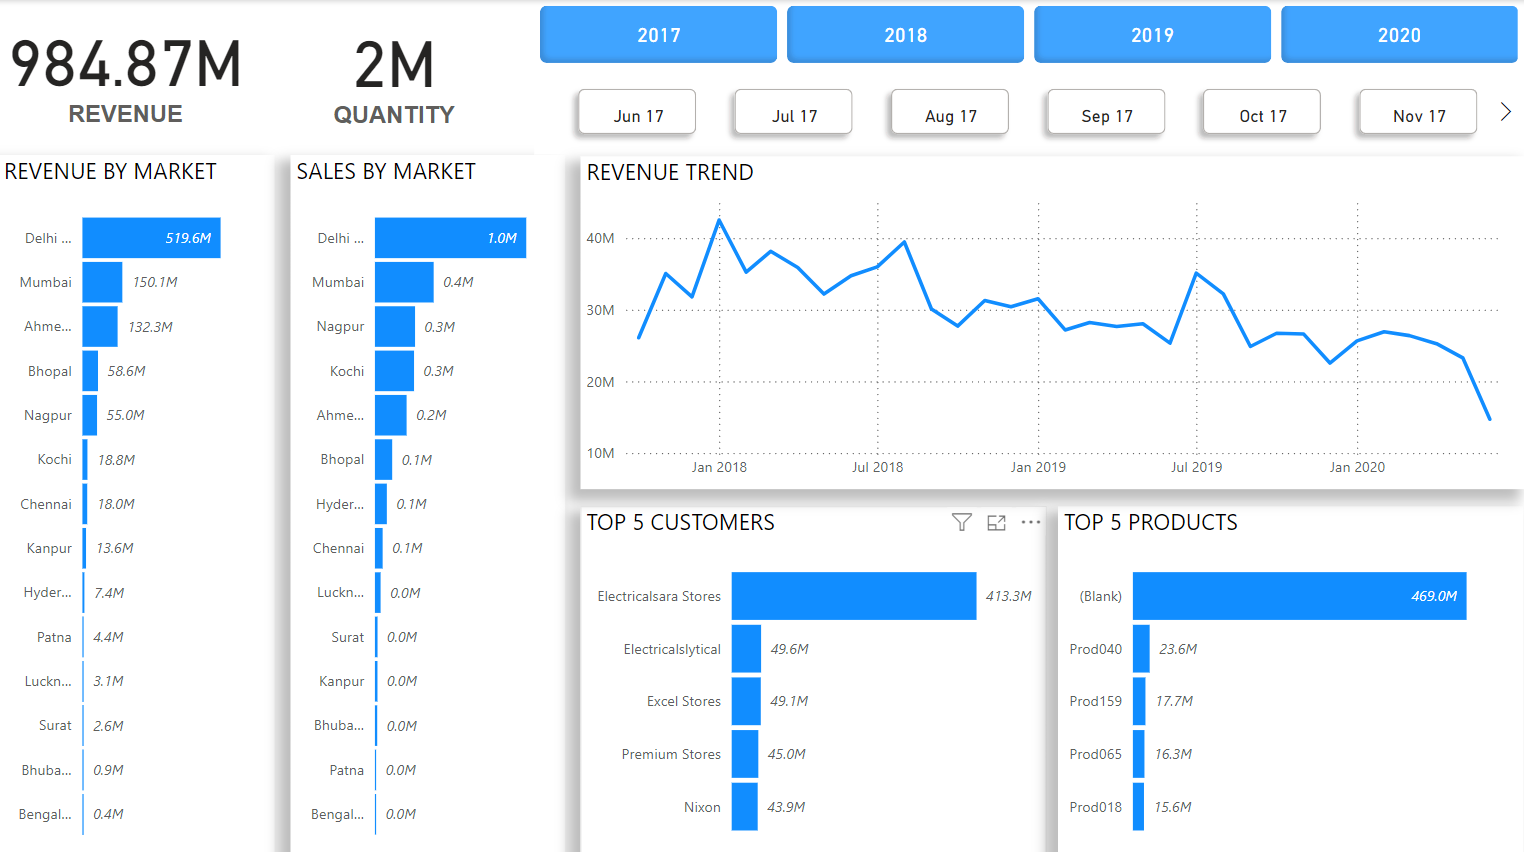

The page's visual inventory and layout, read from the dashboard file:
{"tool":"powerbi","page":{"name":"Page 1","canvas":[1280,720],"ordinal":0},"visuals":[{"type":"card","fields":{"Values":["base measure.revenue"]},"box":[0,0,214,115.1],"z":0},{"type":"card","title":"QUANTITY","fields":{"Values":["base measure.sales qty"]},"box":[225.6,1.2,214,114],"z":1000},{"type":"barChart","title":"REVENUE BY MARKET","fields":{"Y":["base measure.revenue"],"Category":["sales markets.markets_name"]},"box":[0,130,231.7,590.2],"z":2000},{"type":"barChart","title":"SALES BY MARKET","fields":{"Y":["base measure.sales qty"],"Category":["sales markets.markets_name"]},"box":[245.3,130,230.6,590.2],"z":3000},{"type":"advancedSlicerVisual","fields":{"Values":["sales date.cy_date"]},"box":[450,58.1,830.2,72.1],"z":5000},{"type":"advancedSlicerVisual","title":"YEAR","fields":{"Values":["sales date.year"]},"box":[450,0,830.2,58.1],"z":5500},{"type":"barChart","title":"TOP 5 CUSTOMERS","fields":{"Y":["base measure.revenue"],"Category":["sales customers.custmer_name"]},"box":[488.4,424.4,390.7,295.3],"z":6000},{"type":"barChart","title":"TOP 5 PRODUCTS","fields":{"Y":["base measure.revenue"],"Category":["sales products.product_code"]},"box":[889.3,424.6,390.7,295.3],"z":7000},{"type":"lineChart","title":"REVENUE TREND","fields":{"Y":["base measure.revenue"],"Category":["sales date.cy_date.Variation.Date Hierarchy.Year","sales date.cy_date.Variation.Date Hierarchy.Quarter","sales date.cy_date.Variation.Date Hierarchy.Month","sales date.cy_date.Variation.Date Hierarchy.Day"]},"box":[488.1,131.4,791.9,279.1],"z":8000}]}

Visuals, with their boxes in screenshot pixels (x1, y1, x2, y2), scaled from the page's 1280x720 canvas onto the 1524x852 screenshot:
card - base measure.revenue: (left=0, top=0, right=255, bottom=136)
"QUANTITY" card: (left=269, top=1, right=523, bottom=136)
"REVENUE BY MARKET" barChart: (left=0, top=154, right=276, bottom=851)
"SALES BY MARKET" barChart: (left=292, top=154, right=567, bottom=851)
advancedSlicerVisual - sales date.cy_date: (left=536, top=69, right=1523, bottom=154)
"YEAR" advancedSlicerVisual: (left=536, top=0, right=1523, bottom=69)
"TOP 5 CUSTOMERS" barChart: (left=582, top=502, right=1047, bottom=851)
"TOP 5 PRODUCTS" barChart: (left=1059, top=502, right=1523, bottom=851)
"REVENUE TREND" lineChart: (left=581, top=155, right=1523, bottom=486)
